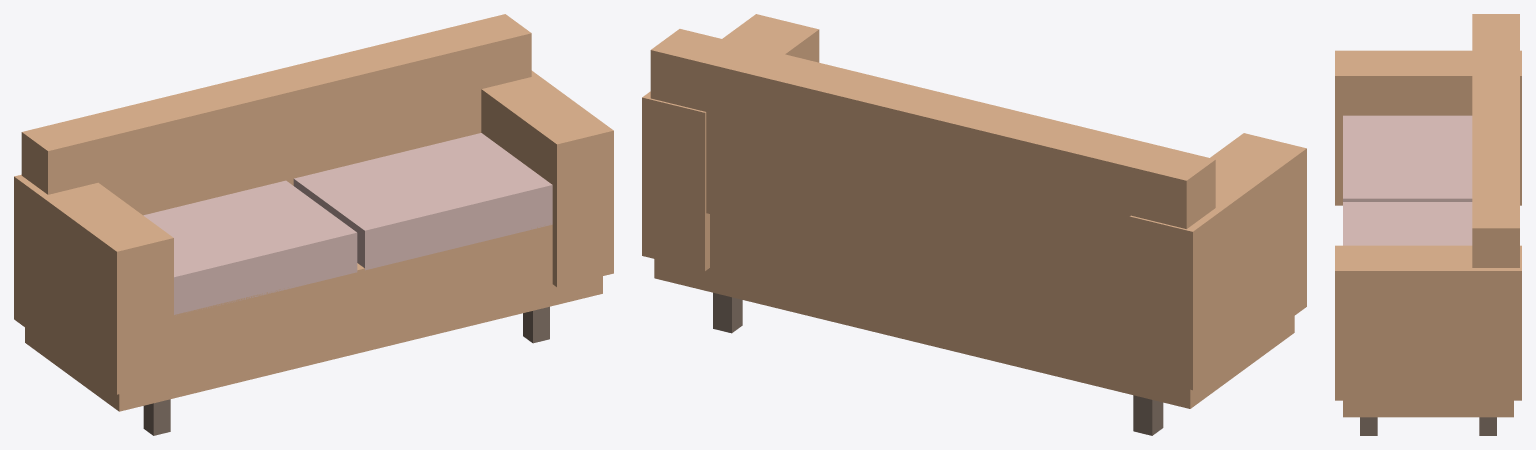
Rendered from sofa_basic.glb.
3 renders of one model, left to right at view 1: azimuth 30°, elevation 25°; view 2: azimuth 150°, elevation 25°; view 3: azimuth 270°, elevation 25°, orthographic. The views are drawn at different scales.
Visible parts, largest first — view 1: part_01, part_00, part_02, part_05, part_04, part_03, part_07, part_09; view 2: part_01, part_00, part_02, part_03, part_06, part_08; view 3: part_03, part_01, part_04, part_02, part_05, part_00, part_08, part_09.
Boxes of the visible parts, x1,y1,x2,y2 form: part_01: (21, 14, 531, 215); part_00: (25, 223, 602, 411); part_02: (14, 174, 173, 394); part_05: (293, 133, 552, 270); part_04: (143, 180, 357, 315); part_03: (481, 70, 613, 287); part_07: (143, 399, 170, 435); part_09: (523, 306, 549, 343); part_01: (650, 29, 1215, 316); part_00: (654, 214, 1294, 408); part_02: (1129, 133, 1306, 390); part_03: (642, 14, 819, 270); part_06: (1133, 395, 1163, 435); part_08: (713, 292, 742, 333); part_03: (1335, 245, 1521, 400); part_01: (1472, 14, 1519, 267); part_04: (1343, 115, 1472, 201); part_02: (1335, 50, 1521, 205); part_05: (1343, 202, 1472, 245); part_00: (1343, 400, 1513, 417); part_08: (1479, 417, 1496, 435); part_09: (1360, 417, 1377, 435).
Bounding box in the file's own units: 2.62 × 1.26 × 0.94.
